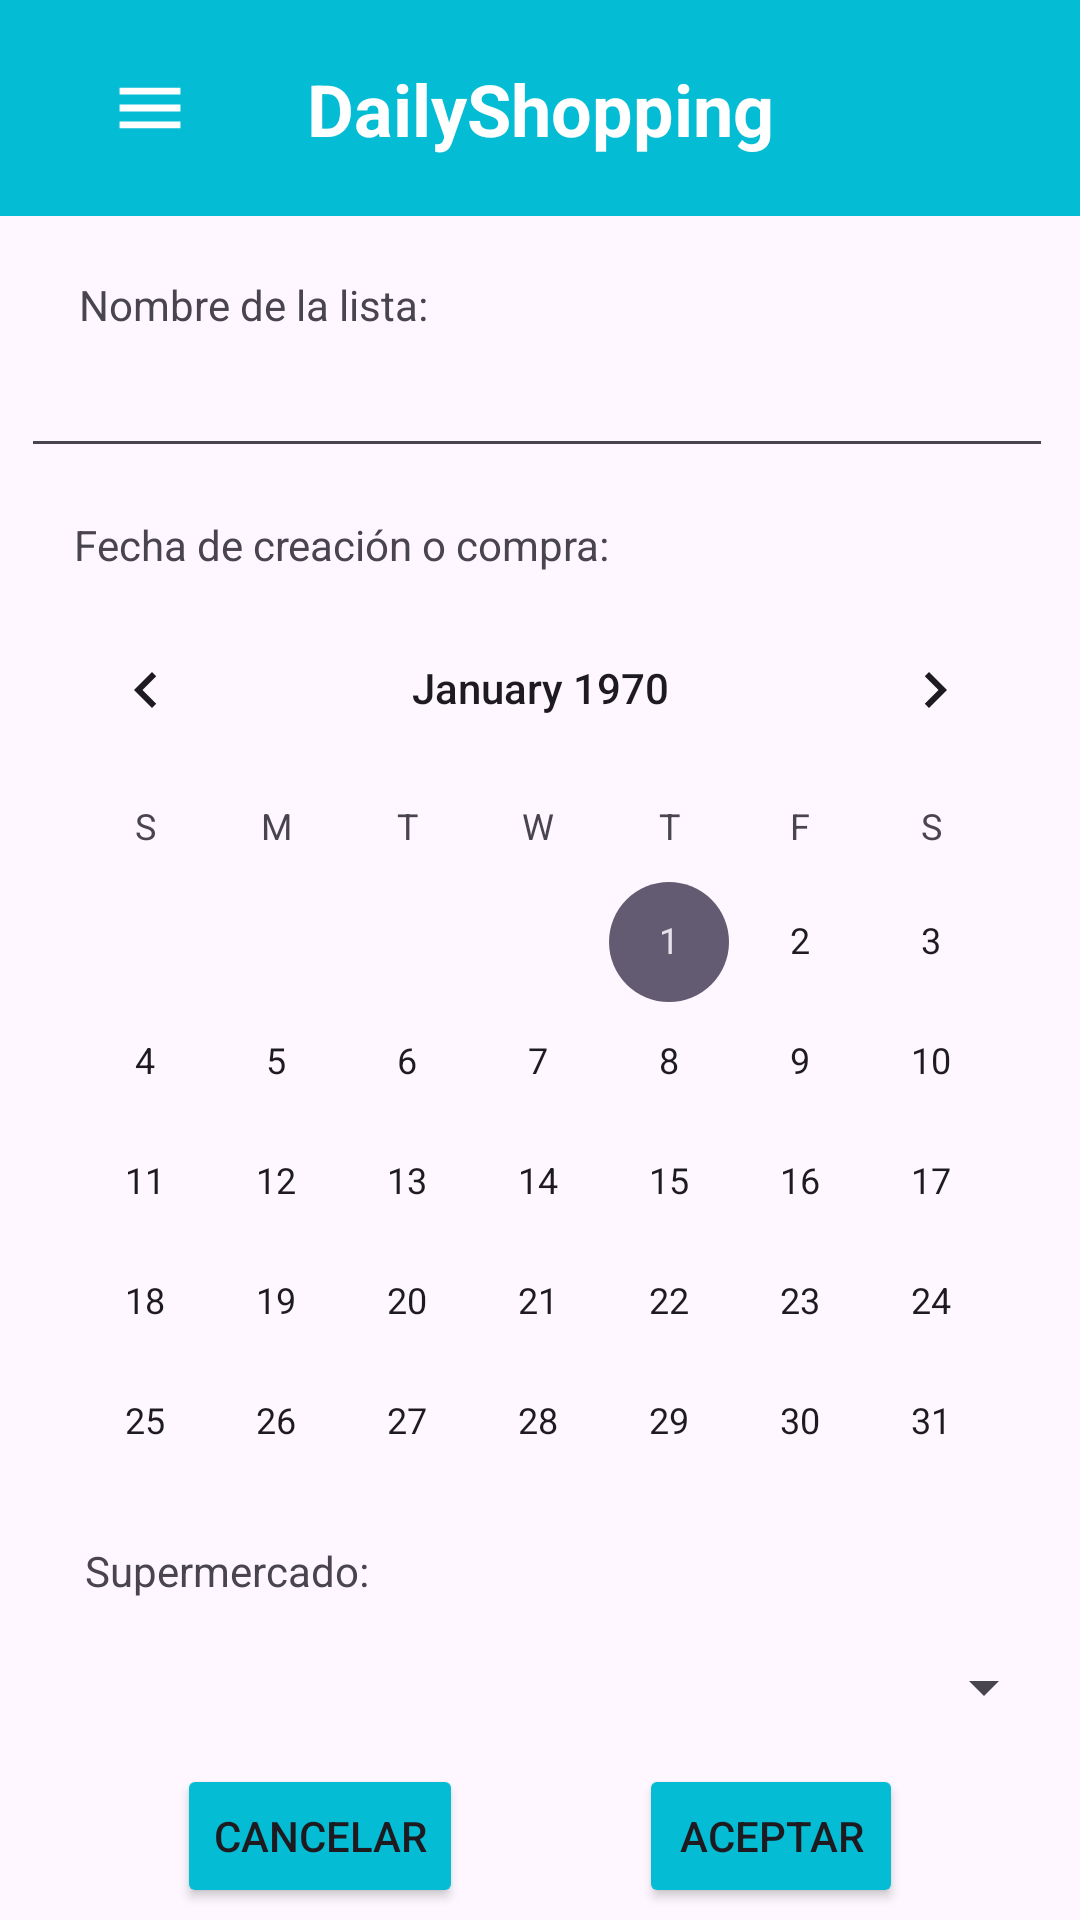

Named icons in this screenshot (1080 × 1920) and their centers, (x,y):
menu: (150,108)
